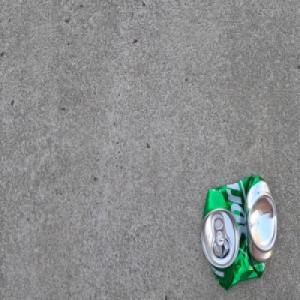SodaCan: (199, 172, 278, 291)
